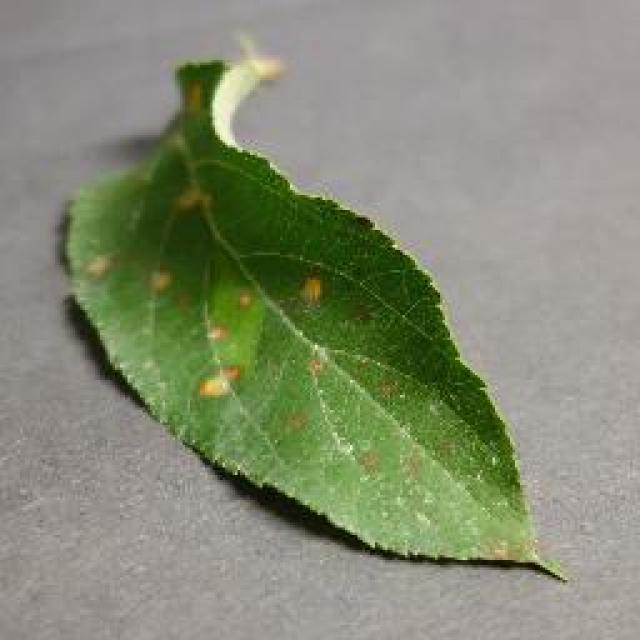apple rust disease: (58, 35, 568, 583)
